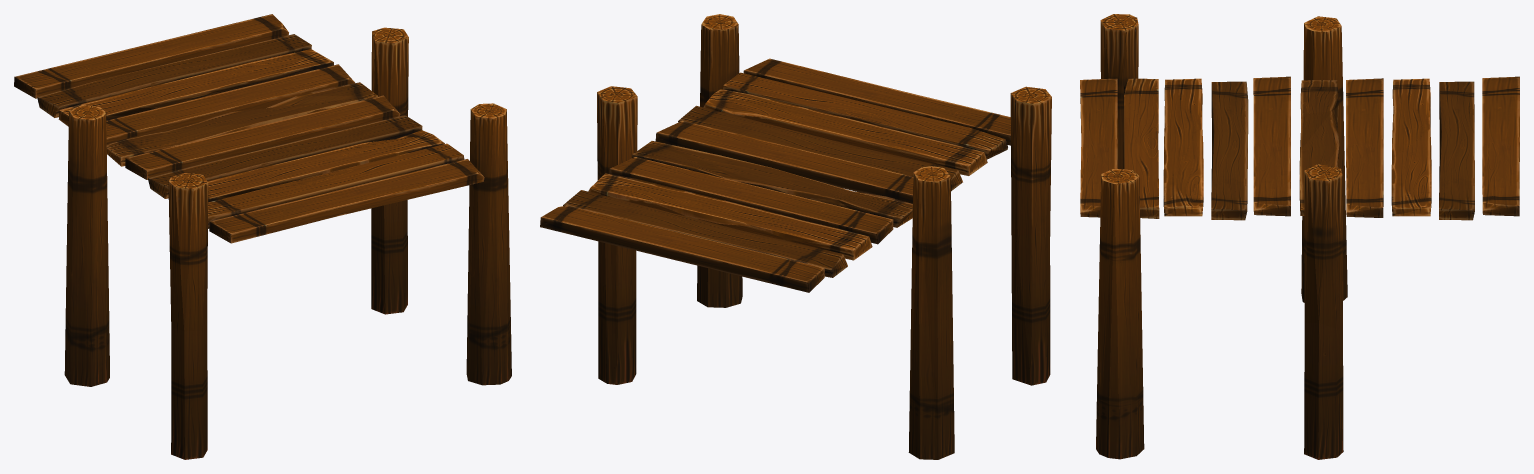
The model's file is HOS0710001.FBX.
3 views of the same model, side by side, from view 1: azimuth 30°, elevation 25°; view 2: azimuth 150°, elevation 25°; view 3: azimuth 270°, elevation 25° (orthographic). The views are drawn at different scales.
Visible parts, largest first — view 1: smHOS0710001; view 2: smHOS0710001; view 3: smHOS0710001.
Boxes of the visible parts, x1,y1,x2,y2 form: smHOS0710001: (14,14,511,459); smHOS0710001: (540,14,1051,459); smHOS0710001: (1080,14,1519,459).
Size of the model in its own units: 205 by 155 by 221.
1 material, 1 textured.
